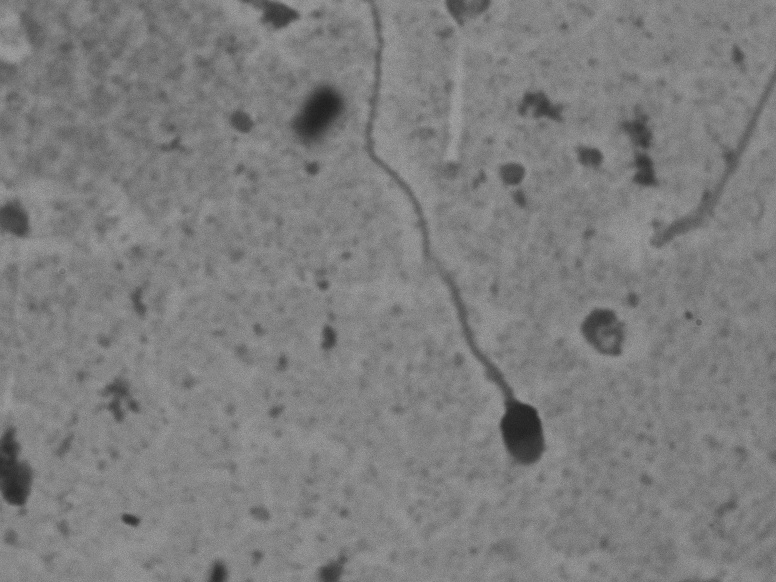Normal: (332, 12, 562, 479)
